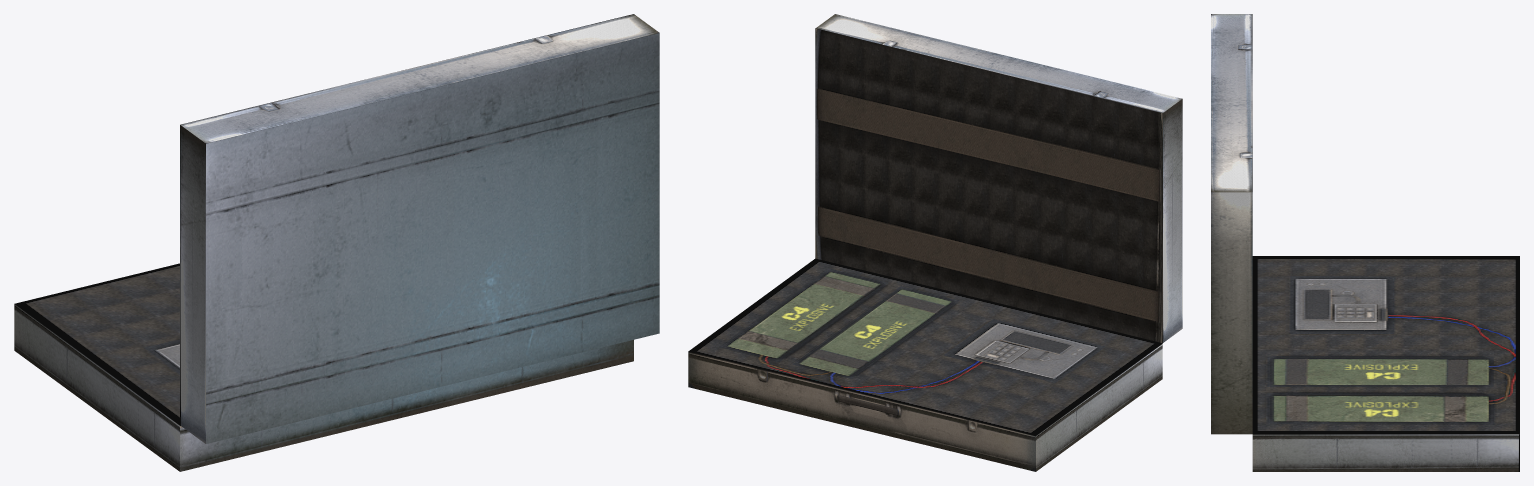
Rendered from IED.fbx.
3 views of the same model, side by side, from view 1: azimuth 30°, elevation 25°; view 2: azimuth 150°, elevation 25°; view 3: azimuth 270°, elevation 25° (orthographic). The views are drawn at different scales.
Parts seen in each view (by area): view 1: Cube.001, Cube; view 2: Cube.001, Cube; view 3: Cube, Cube.001.
Part boxes in pixels (<box>): Cube.001: <box>180,14,659,443</box>; Cube: <box>14,263,633,471</box>; Cube.001: <box>815,14,1182,343</box>; Cube: <box>688,258,1162,471</box>; Cube: <box>1252,256,1519,471</box>; Cube.001: <box>1211,14,1252,434</box>.
Bounding box in the file's own units: 345 × 252 × 252.
